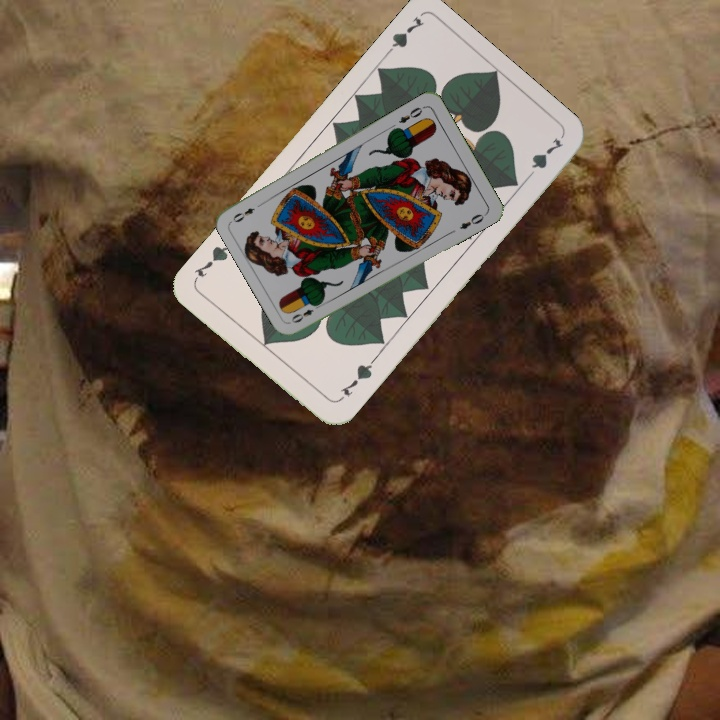EO: (287, 299, 324, 326), (395, 102, 427, 126)
G7: (378, 12, 427, 62), (336, 356, 377, 399)
